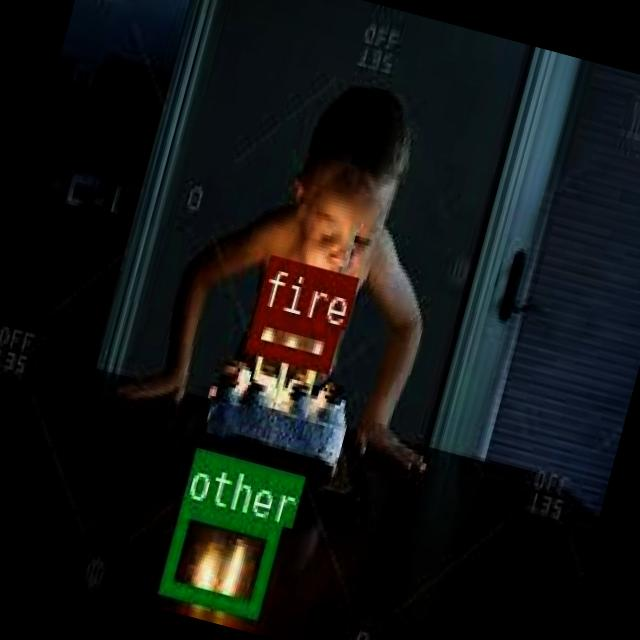fire: (245, 306, 336, 369)
